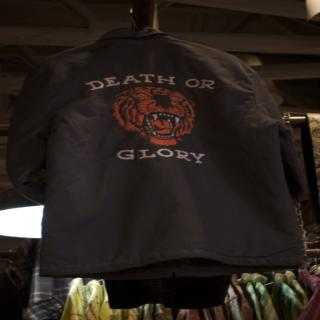Tiger: (111, 85, 195, 148)
